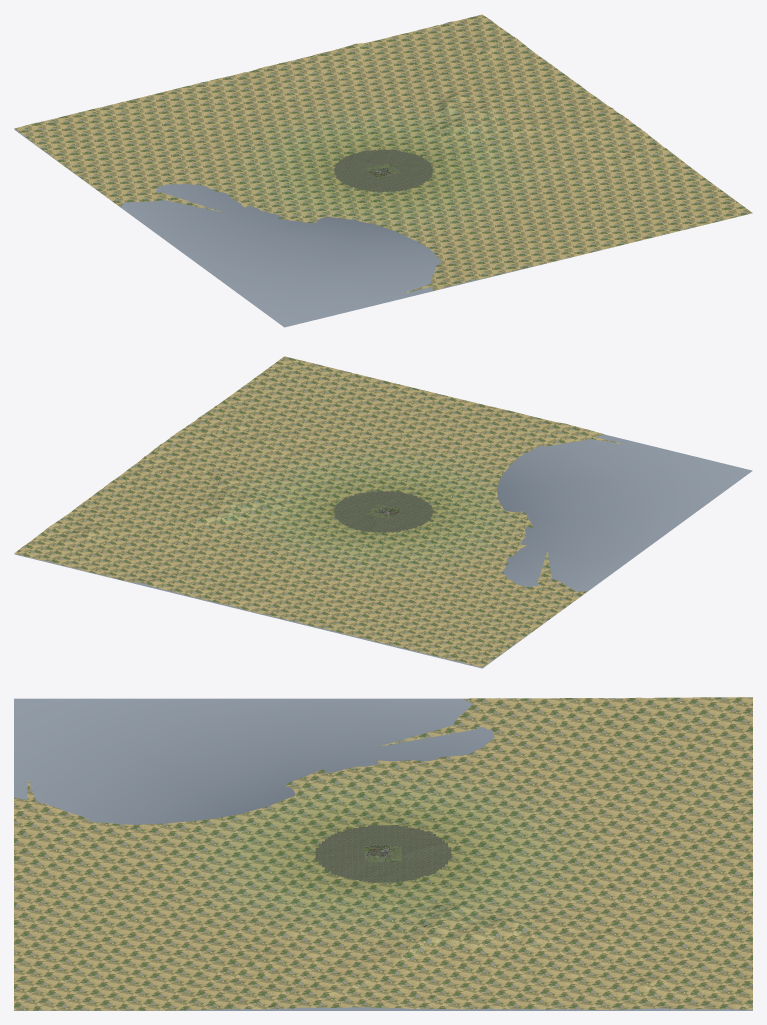
The model's file is waverley_park_backdrop_part1.glb.
The picture shows the model from 3 angles, top to bottom: view 1: azimuth 30°, elevation 25°; view 2: azimuth 150°, elevation 25°; view 3: azimuth 270°, elevation 25°; orthographic projection. The views are drawn at different scales.
Parts seen in each view (by area): view 1: bg_far_terrain, bg_far_water, bg_far_suburb; view 2: bg_far_terrain, bg_far_water, bg_far_suburb; view 3: bg_far_terrain, bg_far_water, bg_far_suburb, bg_near_ground.
Part boxes in pixels (box(x1,y1,x2,y2)): bg_far_terrain: box(14, 14, 752, 293); bg_far_water: box(14, 129, 583, 327); bg_far_suburb: box(333, 149, 433, 192); bg_far_terrain: box(14, 356, 625, 667); bg_far_water: box(14, 434, 752, 668); bg_far_suburb: box(333, 491, 433, 532); bg_far_terrain: box(14, 697, 752, 1010); bg_far_water: box(14, 698, 752, 1010); bg_far_suburb: box(315, 825, 451, 882); bg_near_ground: box(365, 846, 401, 861).
Bounding box in the file's own units: 60002 × 626 × 60001.
Materials: 24 (15 with a texture image).
